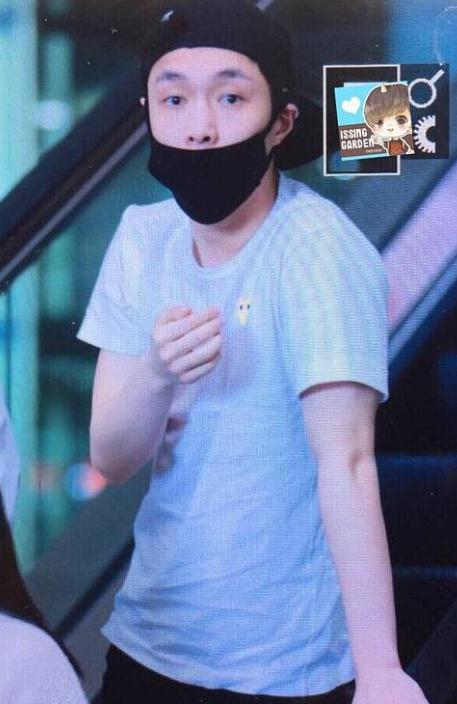WRONG: (145, 53, 272, 224)
